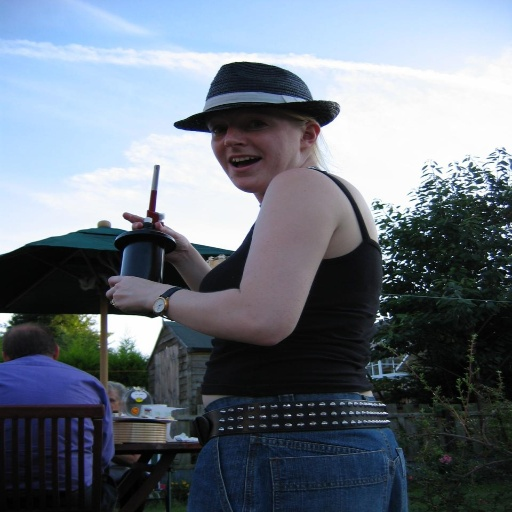hand: (99, 268, 174, 332), (120, 211, 192, 266)
